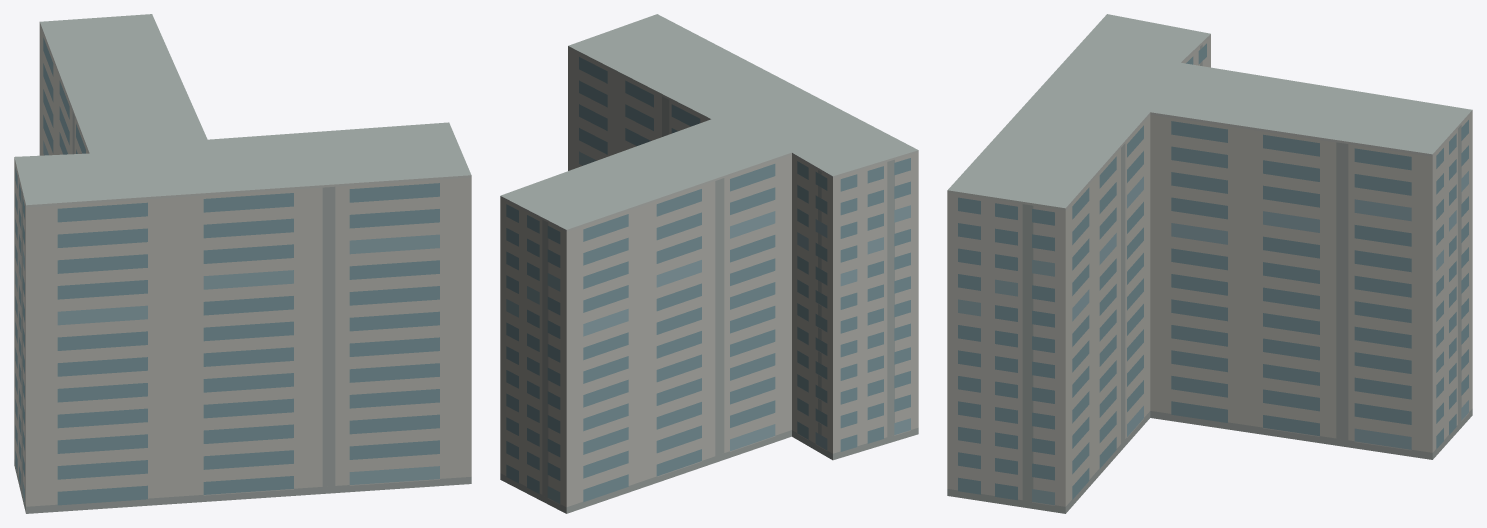
Rendered from residential-aba340c3-47eb-4094-a161-26f24d7d57c6.glb.
The picture shows the model from 3 angles, left to right: view 1: azimuth 30°, elevation 25°; view 2: azimuth 150°, elevation 25°; view 3: azimuth 270°, elevation 25°; orthographic projection. The views are drawn at different scales.
Visible parts, largest first — view 1: residential-aba340c3-47eb-4094-a161-26f24d7d57c6.tmp; view 2: residential-aba340c3-47eb-4094-a161-26f24d7d57c6.tmp; view 3: residential-aba340c3-47eb-4094-a161-26f24d7d57c6.tmp.
Part boxes in pixels (x1,y1,x2,y2): residential-aba340c3-47eb-4094-a161-26f24d7d57c6.tmp: (14,14,471,513); residential-aba340c3-47eb-4094-a161-26f24d7d57c6.tmp: (500,14,918,513); residential-aba340c3-47eb-4094-a161-26f24d7d57c6.tmp: (947,14,1472,513).
Bounding box in the file's own units: 43.64 × 32 × 49.84.
